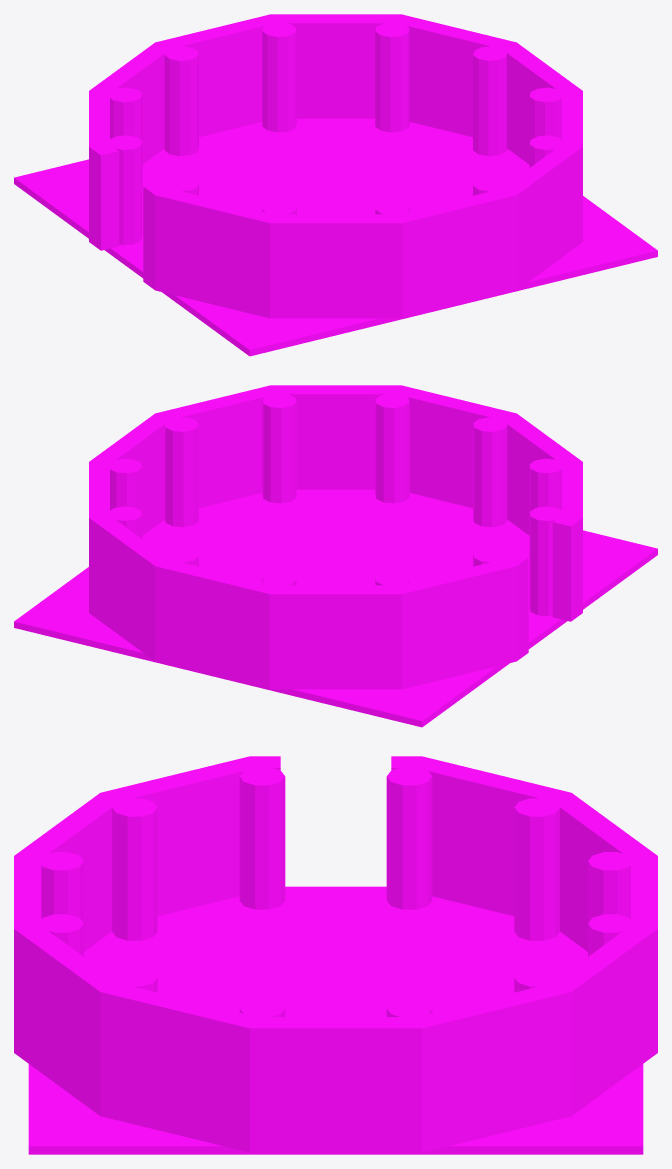
The model's file is library-collision.glb.
3 renders of one model, top to bottom at view 1: azimuth 30°, elevation 25°; view 2: azimuth 150°, elevation 25°; view 3: azimuth 270°, elevation 25°, orthographic. The views are drawn at different scales.
Visible parts, largest first — view 1: library-collision; view 2: library-collision; view 3: library-collision.
Boxes of the visible parts, x1,y1,x2,y2 form: library-collision: (14,14,657,356); library-collision: (14,385,657,727); library-collision: (14,756,657,1154).
Bounding box in the file's own units: 14.1 × 3.2 × 14.1.
